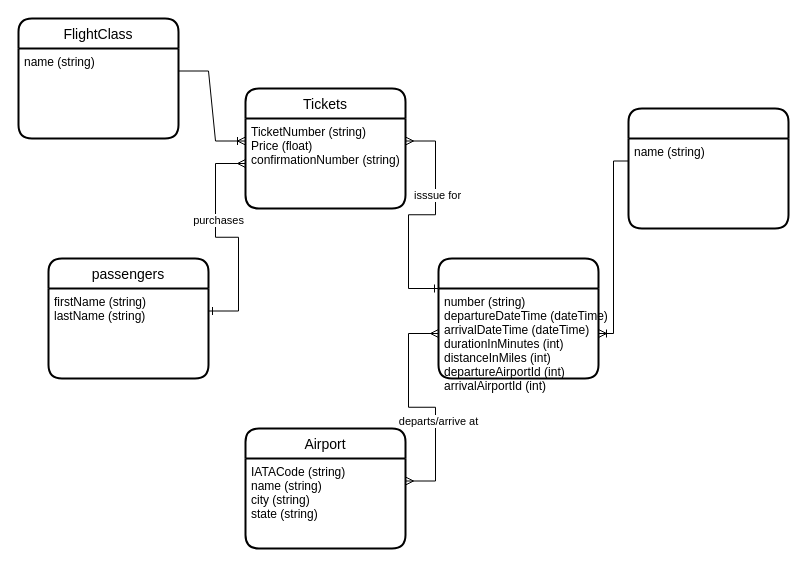
Image size: 806x566. Some labels were removed from this diagram. Each missing label, with the box of its shape:
Airlines: (627, 107, 789, 229)
flight: (437, 257, 599, 379)
